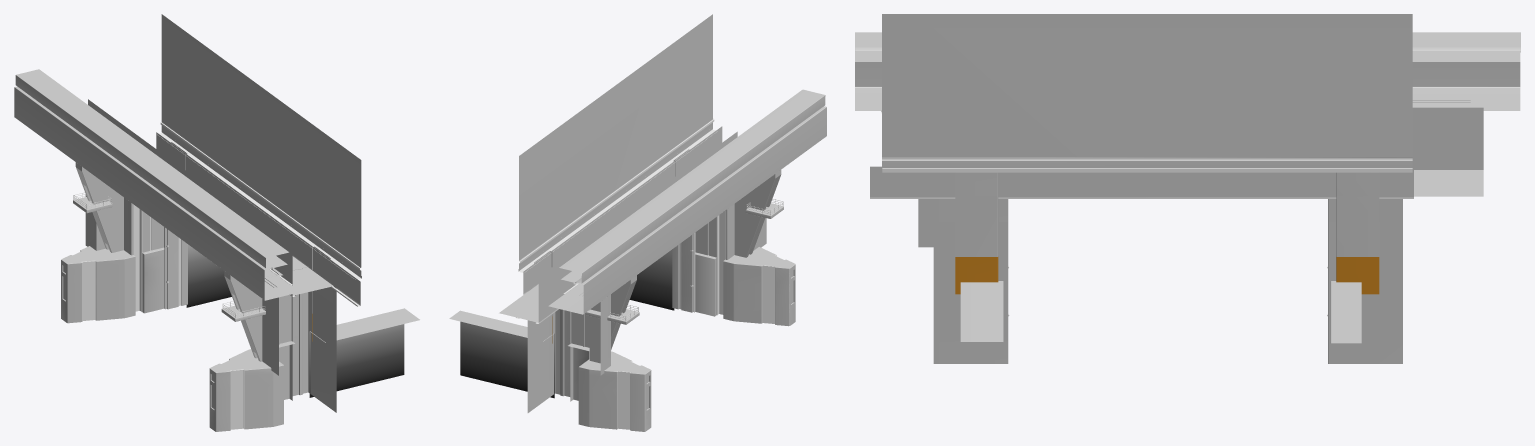
File: SM_H_Building_Tide_PrisonMain_11c_ATLAS.fbx
The picture shows the model from 3 angles, left to right: view 1: azimuth 30°, elevation 25°; view 2: azimuth 150°, elevation 25°; view 3: azimuth 270°, elevation 25°; orthographic projection. The views are drawn at different scales.
Parts seen in each view (by area): view 1: SM_H_Building_Tide_PrisonMain_11c_ATLAS; view 2: SM_H_Building_Tide_PrisonMain_11c_ATLAS; view 3: SM_H_Building_Tide_PrisonMain_11c_ATLAS.
Part boxes in pixels (x1,y1,x2,y2): SM_H_Building_Tide_PrisonMain_11c_ATLAS: (14,14,419,431); SM_H_Building_Tide_PrisonMain_11c_ATLAS: (449,14,826,431); SM_H_Building_Tide_PrisonMain_11c_ATLAS: (855,14,1520,363).
Size of the model in its own units: 2798 by 5882 by 3499.
